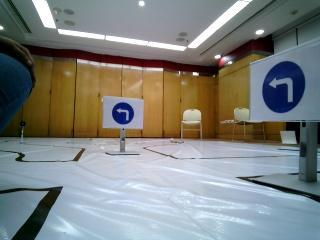left: (245, 60, 320, 124), (108, 97, 144, 129)
